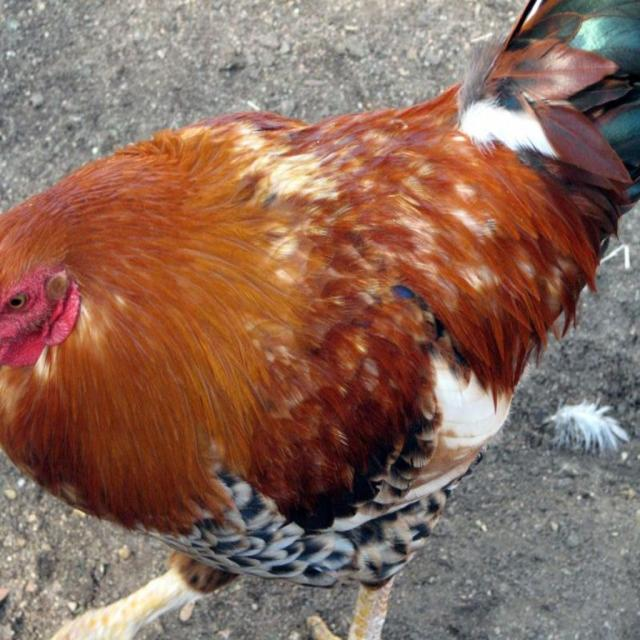Chicken: (0, 1, 636, 617)
